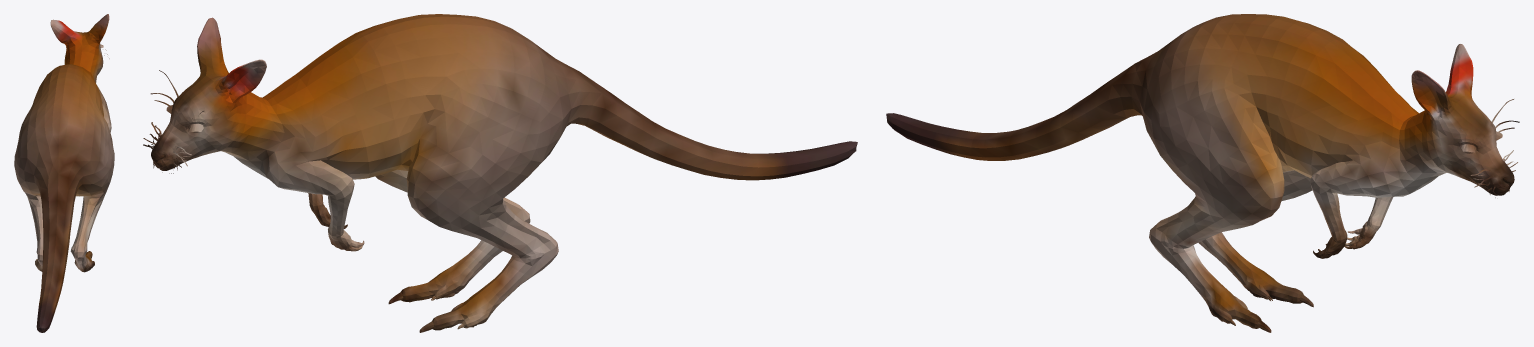
Rendered from wallaby.mesh.glb.
The picture shows the model from 3 angles, left to right: view 1: azimuth 30°, elevation 25°; view 2: azimuth 150°, elevation 25°; view 3: azimuth 270°, elevation 25°; orthographic projection. The views are drawn at different scales.
Visible parts, largest first — view 1: root; view 2: root; view 3: root.
Part boxes in pixels (x1=…): root: x1=14, y1=14, x2=114, y2=332; root: x1=143, y1=14, x2=857, y2=332; root: x1=886, y1=14, x2=1519, y2=332.
Bounding box in the file's own units: 0.5434 × 0.401 × 0.7316.
Materials: 1 (1 with a texture image).
